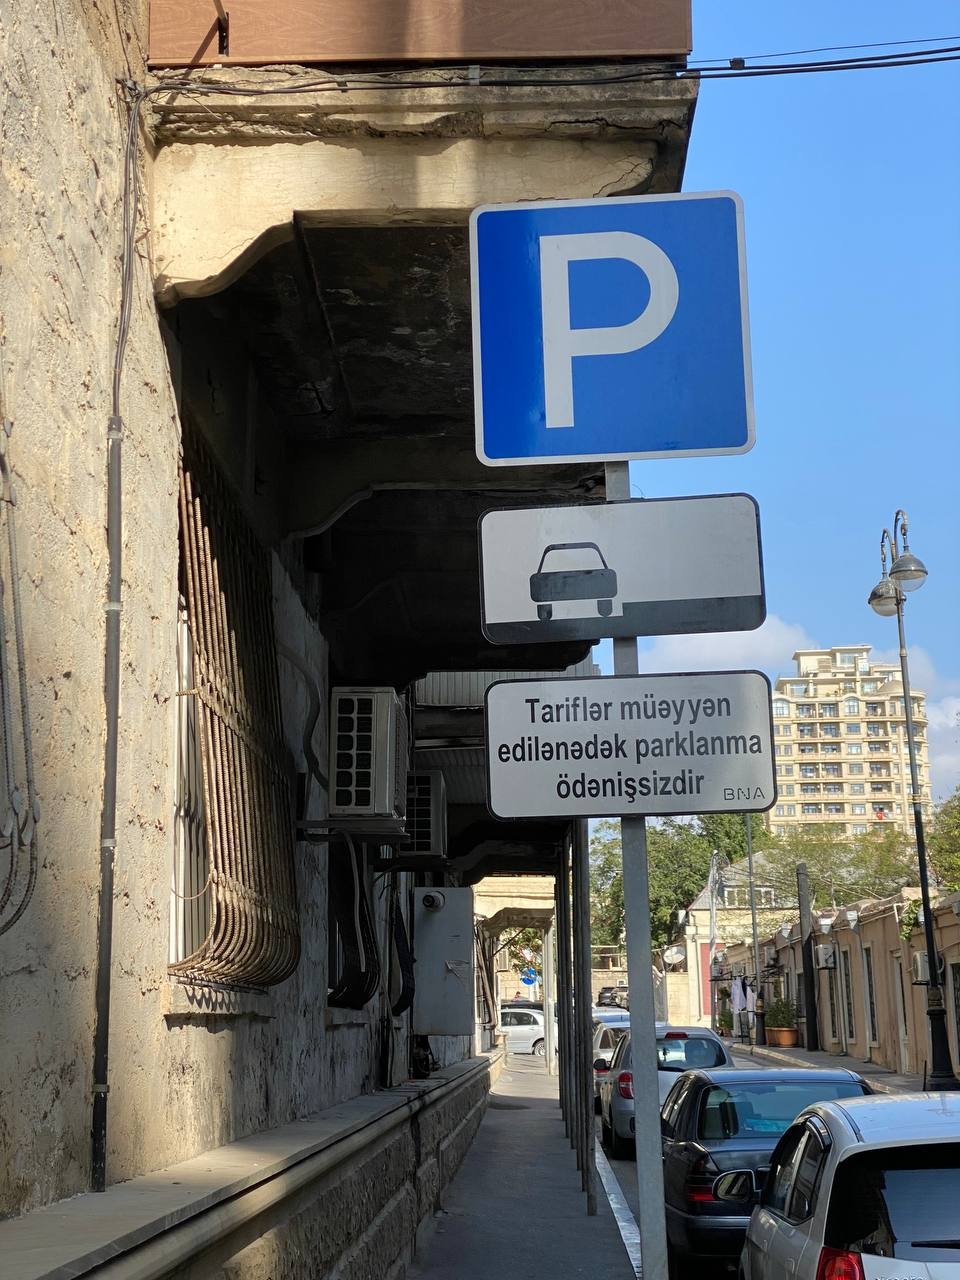Parking-Sign: (469, 189, 757, 467)
